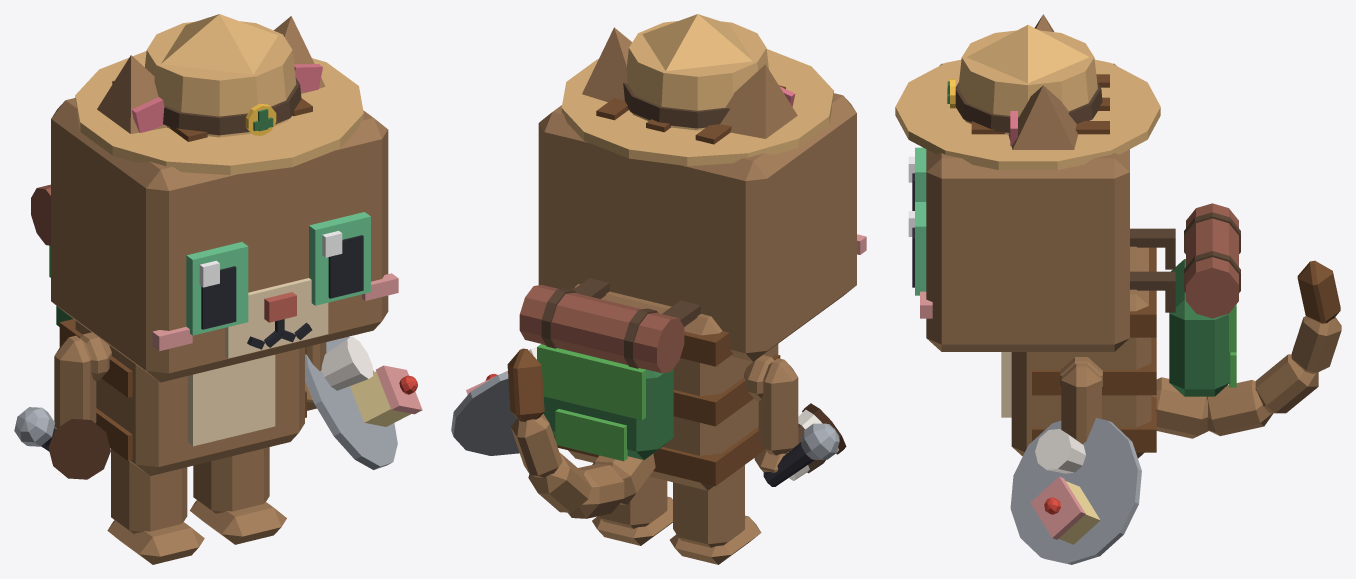
File: CatCafe_Cat_Pinecone_Work.glb
3 renders of one model, left to right at view 1: azimuth 30°, elevation 25°; view 2: azimuth 150°, elevation 25°; view 3: azimuth 270°, elevation 25°, orthographic. The views are drawn at different scales.
Visible parts, largest first — view 1: CatCafe_Cat_Pinecone_Work_Head, CatCafe_Cat_Pinecone_Work_Prop2, CatCafe_Cat_Pinecone_Work_Body, CatCafe_Cat_Pinecone_Work_Held_Waiter, CatCafe_Cat_Pinecone_Work_LegB2, CatCafe_Cat_Pinecone_Work_LegB1, CatCafe_Cat_Pinecone_Work_Eye2, CatCafe_Cat_Pinecone_Work_Eye1, CatCafe_Cat_Pinecone_Work_EarR, CatCafe_Cat_Pinecone_Work_LegF2, CatCafe_Cat_Pinecone_Work_Held_Barista, CatCafe_Cat_Pinecone_Work_EarL (+3 smaller); view 2: CatCafe_Cat_Pinecone_Work_Head, CatCafe_Cat_Pinecone_Work_Prop2, CatCafe_Cat_Pinecone_Work_Prop, CatCafe_Cat_Pinecone_Work_Body, CatCafe_Cat_Pinecone_Work_Tail, CatCafe_Cat_Pinecone_Work_LegB2, CatCafe_Cat_Pinecone_Work_Held_Waiter, CatCafe_Cat_Pinecone_Work_LegF2, CatCafe_Cat_Pinecone_Work_EarR, CatCafe_Cat_Pinecone_Work_LegB1, CatCafe_Cat_Pinecone_Work_EarL, CatCafe_Cat_Pinecone_Work_Held_Entertainer (+1 smaller); view 3: CatCafe_Cat_Pinecone_Work_Head, CatCafe_Cat_Pinecone_Work_Prop2, CatCafe_Cat_Pinecone_Work_Held_Waiter, CatCafe_Cat_Pinecone_Work_Prop, CatCafe_Cat_Pinecone_Work_Body, CatCafe_Cat_Pinecone_Work_Tail, CatCafe_Cat_Pinecone_Work_EarL, CatCafe_Cat_Pinecone_Work_LegF1, CatCafe_Cat_Pinecone_Work_Eye1, CatCafe_Cat_Pinecone_Work_Eye2.
Boxes of the visible parts, x1,y1,x2,y2 form: CatCafe_Cat_Pinecone_Work_Head: [51, 80, 398, 382]; CatCafe_Cat_Pinecone_Work_Prop2: [75, 14, 363, 175]; CatCafe_Cat_Pinecone_Work_Body: [59, 319, 306, 475]; CatCafe_Cat_Pinecone_Work_Held_Waiter: [305, 336, 422, 469]; CatCafe_Cat_Pinecone_Work_LegB2: [107, 449, 204, 564]; CatCafe_Cat_Pinecone_Work_LegB1: [190, 447, 286, 544]; CatCafe_Cat_Pinecone_Work_Eye2: [186, 242, 248, 335]; CatCafe_Cat_Pinecone_Work_Eye1: [309, 212, 370, 305]; CatCafe_Cat_Pinecone_Work_EarR: [97, 55, 166, 133]; CatCafe_Cat_Pinecone_Work_LegF2: [54, 335, 96, 428]; CatCafe_Cat_Pinecone_Work_Held_Barista: [48, 419, 110, 479]; CatCafe_Cat_Pinecone_Work_EarL: [274, 16, 325, 94]; CatCafe_Cat_Pinecone_Work_Head: [538, 85, 866, 361]; CatCafe_Cat_Pinecone_Work_Prop2: [561, 14, 833, 166]; CatCafe_Cat_Pinecone_Work_Prop: [519, 278, 700, 461]; CatCafe_Cat_Pinecone_Work_Body: [554, 284, 780, 490]; CatCafe_Cat_Pinecone_Work_Tail: [507, 348, 655, 518]; CatCafe_Cat_Pinecone_Work_LegB2: [670, 465, 761, 564]; CatCafe_Cat_Pinecone_Work_Held_Waiter: [451, 347, 536, 455]; CatCafe_Cat_Pinecone_Work_LegF2: [754, 358, 798, 472]; CatCafe_Cat_Pinecone_Work_EarR: [720, 64, 797, 138]; CatCafe_Cat_Pinecone_Work_LegB1: [592, 476, 672, 545]; CatCafe_Cat_Pinecone_Work_EarL: [582, 27, 632, 101]; CatCafe_Cat_Pinecone_Work_Held_Entertainer: [763, 423, 839, 486]; CatCafe_Cat_Pinecone_Work_Head: [920, 63, 1129, 351]; CatCafe_Cat_Pinecone_Work_Prop2: [895, 25, 1160, 169]; CatCafe_Cat_Pinecone_Work_Held_Waiter: [1010, 418, 1141, 564]; CatCafe_Cat_Pinecone_Work_Prop: [1130, 203, 1240, 396]; CatCafe_Cat_Pinecone_Work_Body: [1001, 246, 1156, 458]; CatCafe_Cat_Pinecone_Work_Tail: [1151, 260, 1341, 438]; CatCafe_Cat_Pinecone_Work_EarL: [1008, 85, 1078, 149]; CatCafe_Cat_Pinecone_Work_LegF1: [1061, 363, 1101, 444]; CatCafe_Cat_Pinecone_Work_Eye1: [908, 202, 926, 295]; CatCafe_Cat_Pinecone_Work_Eye2: [908, 147, 926, 210].
Size of the model in its own units: 1.53 by 2.03 by 1.67.
Materials: 1 (1 with a texture image).
